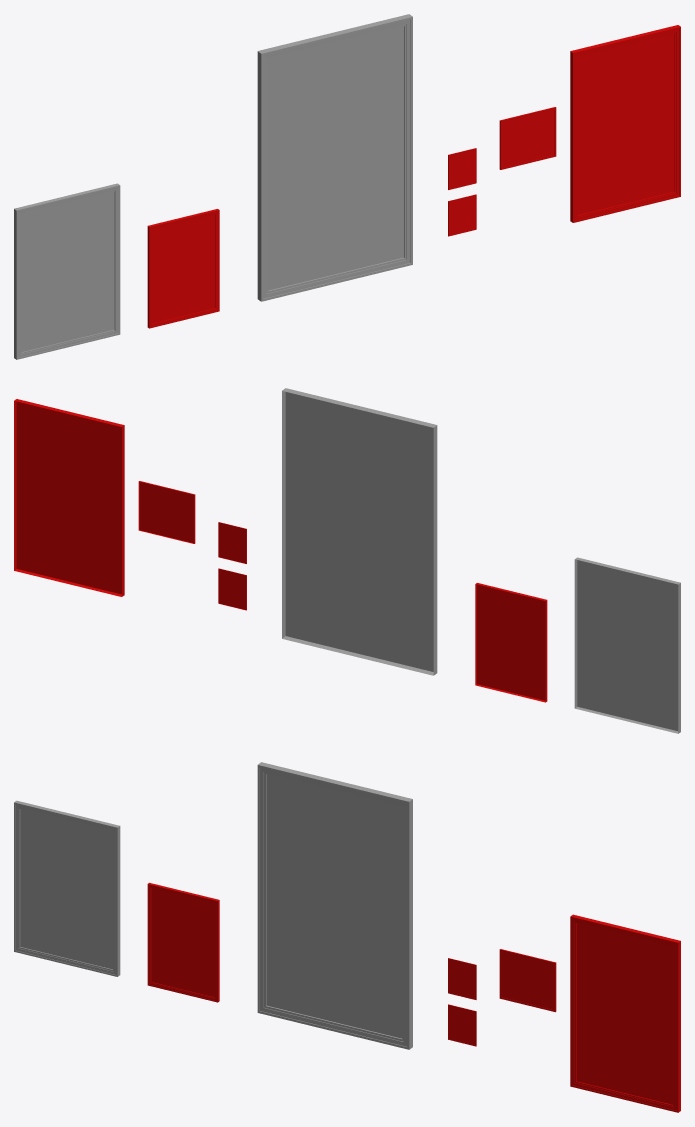
Rendered from Quadri Destra.fbx.
The picture shows the model from 3 angles, top to bottom: view 1: azimuth 30°, elevation 25°; view 2: azimuth 150°, elevation 25°; view 3: azimuth 330°, elevation 25°; orthographic projection.
Visible parts, largest first — view 1: polySurface58, polySurface4, polySurface53, polySurface1, polySurface54, polySurface51, polySurface2, polySurface55, polySurface59, polySurface52; view 2: polySurface58, polySurface53, polySurface4, polySurface1, polySurface51, polySurface54, polySurface55, polySurface59, polySurface2; view 3: polySurface58, polySurface4, polySurface53, polySurface1, polySurface54, polySurface51, polySurface2, polySurface59, polySurface55, polySurface52.
Part boxes in pixels (x1=…): polySurface58: x1=257, y1=14, x2=412, y2=301; polySurface4: x1=14, y1=183, x2=120, y2=359; polySurface53: x1=578, y1=33, x2=674, y2=214; polySurface1: x1=152, y1=214, x2=215, y2=323; polySurface54: x1=570, y1=25, x2=680, y2=222; polySurface51: x1=502, y1=109, x2=554, y2=167; polySurface2: x1=147, y1=209, x2=219, y2=328; polySurface55: x1=449, y1=149, x2=475, y2=188; polySurface59: x1=449, y1=195, x2=475, y2=235; polySurface52: x1=499, y1=107, x2=556, y2=169; polySurface58: x1=282, y1=388, x2=437, y2=675; polySurface53: x1=17, y1=401, x2=121, y2=593; polySurface4: x1=574, y1=557, x2=680, y2=733; polySurface1: x1=477, y1=584, x2=545, y2=700; polySurface51: x1=139, y1=482, x2=194, y2=542; polySurface54: x1=14, y1=399, x2=124, y2=596; polySurface55: x1=218, y1=522, x2=246, y2=563; polySurface59: x1=218, y1=569, x2=246, y2=609; polySurface2: x1=475, y1=583, x2=547, y2=702; polySurface58: x1=257, y1=762, x2=412, y2=1049; polySurface4: x1=14, y1=800, x2=120, y2=976; polySurface53: x1=577, y1=923, x2=673, y2=1104; polySurface1: x1=151, y1=888, x2=214, y2=997; polySurface54: x1=570, y1=914, x2=680, y2=1112; polySurface51: x1=501, y1=951, x2=553, y2=1009; polySurface2: x1=147, y1=882, x2=219, y2=1002; polySurface59: x1=449, y1=1005, x2=475, y2=1045; polySurface55: x1=449, y1=959, x2=475, y2=998; polySurface52: x1=499, y1=949, x2=556, y2=1012.
Bounding box in the file's own units: 56.01 × 20.01 × 0.5563.
